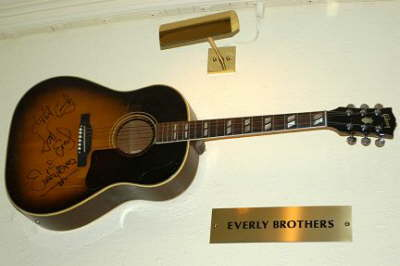guitar: (4, 75, 396, 234)
